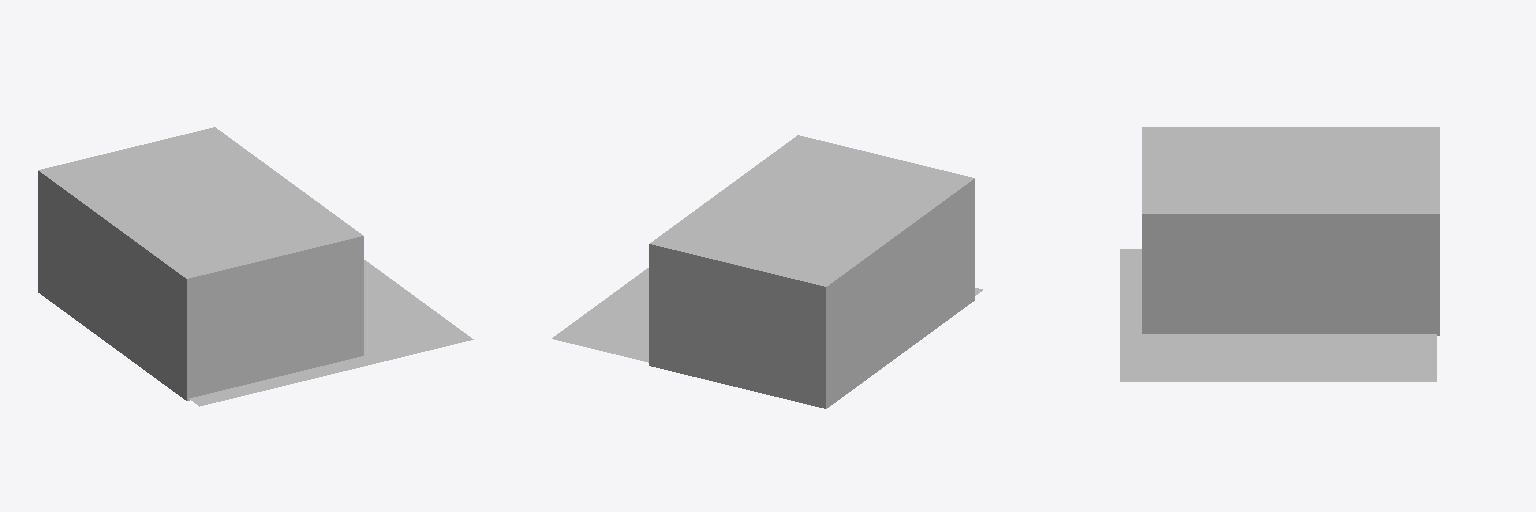
3 renders of one model, left to right at view 1: azimuth 30°, elevation 25°; view 2: azimuth 150°, elevation 25°; view 3: azimuth 270°, elevation 25°, orthographic.
Visible parts, largest first — view 1: Shape_IndexedFaceSet, group_0_ID4; view 2: Shape_IndexedFaceSet, group_0_ID4; view 3: Shape_IndexedFaceSet, group_0_ID4.
Boxes of the visible parts, <box> form: Shape_IndexedFaceSet: <box>38,127,363,400</box>; group_0_ID4: <box>189,260,473,406</box>; Shape_IndexedFaceSet: <box>649,135,974,408</box>; group_0_ID4: <box>552,268,982,362</box>; Shape_IndexedFaceSet: <box>1142,127,1439,335</box>; group_0_ID4: <box>1120,249,1436,381</box>.
Size of the model in its own units: 15.35 by 6.48 by 15.35.